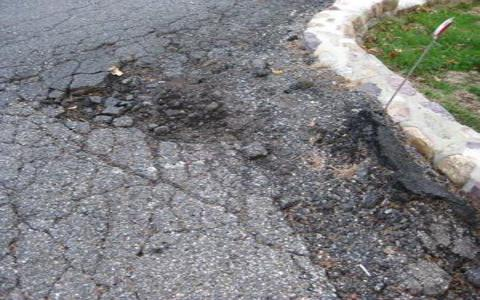patchy roads: (38, 41, 245, 194), (259, 126, 434, 284)
